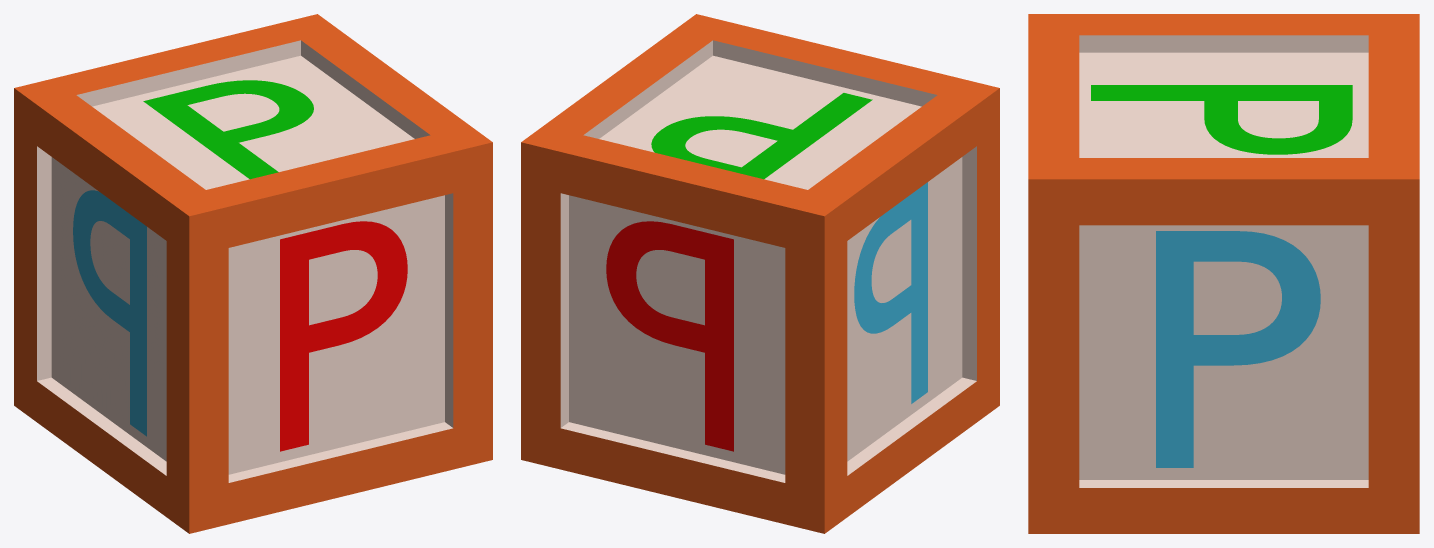
Rendered from Prop_KidsCube_P.fbx.
The picture shows the model from 3 angles, left to right: view 1: azimuth 30°, elevation 25°; view 2: azimuth 150°, elevation 25°; view 3: azimuth 270°, elevation 25°; orthographic projection. The views are drawn at different scales.
Visible parts, largest first — view 1: Prop_KidsCube_P; view 2: Prop_KidsCube_P; view 3: Prop_KidsCube_P.
Part boxes in pixels (x1,y1,x2,y2): Prop_KidsCube_P: (14,14,492,533); Prop_KidsCube_P: (521,14,999,533); Prop_KidsCube_P: (1028,14,1419,533).
Size of the model in its own units: 20.93 by 20.93 by 20.93.
